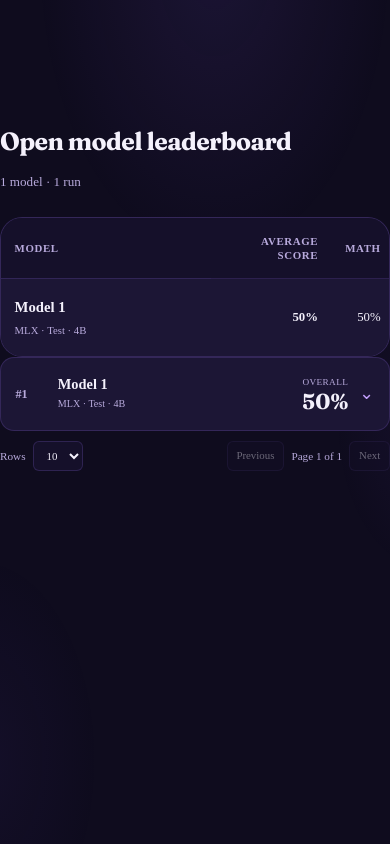
Test: leaderboard pagination › keeps score details collapsed until a mobile model row is selected
Expected: the heading "Score breakdown" is not shown
Click the button named "#1Model 1MLX · Test · 4BOverall50%" at (83, 384), box left=1, top=358, right=389, bottom=430
(page scrolled)
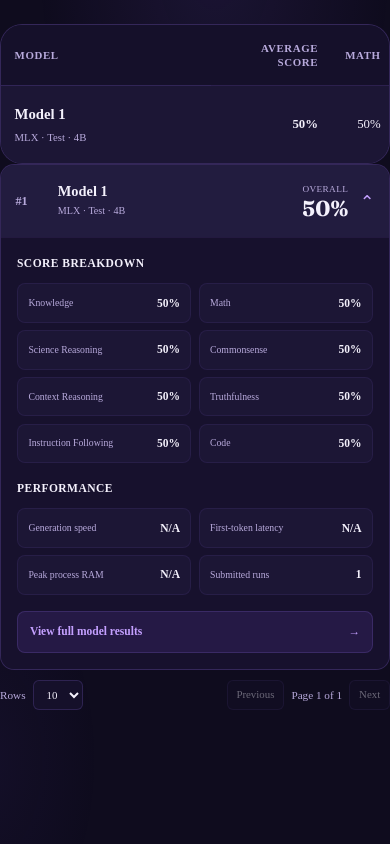
Now the button named "#1Model 1MLX · Test · 4BOverall50%" is expanded, box left=1, top=165, right=389, bottom=237
Now the heading "Score breakdown" is shown, box left=17, top=254, right=144, bottom=273
